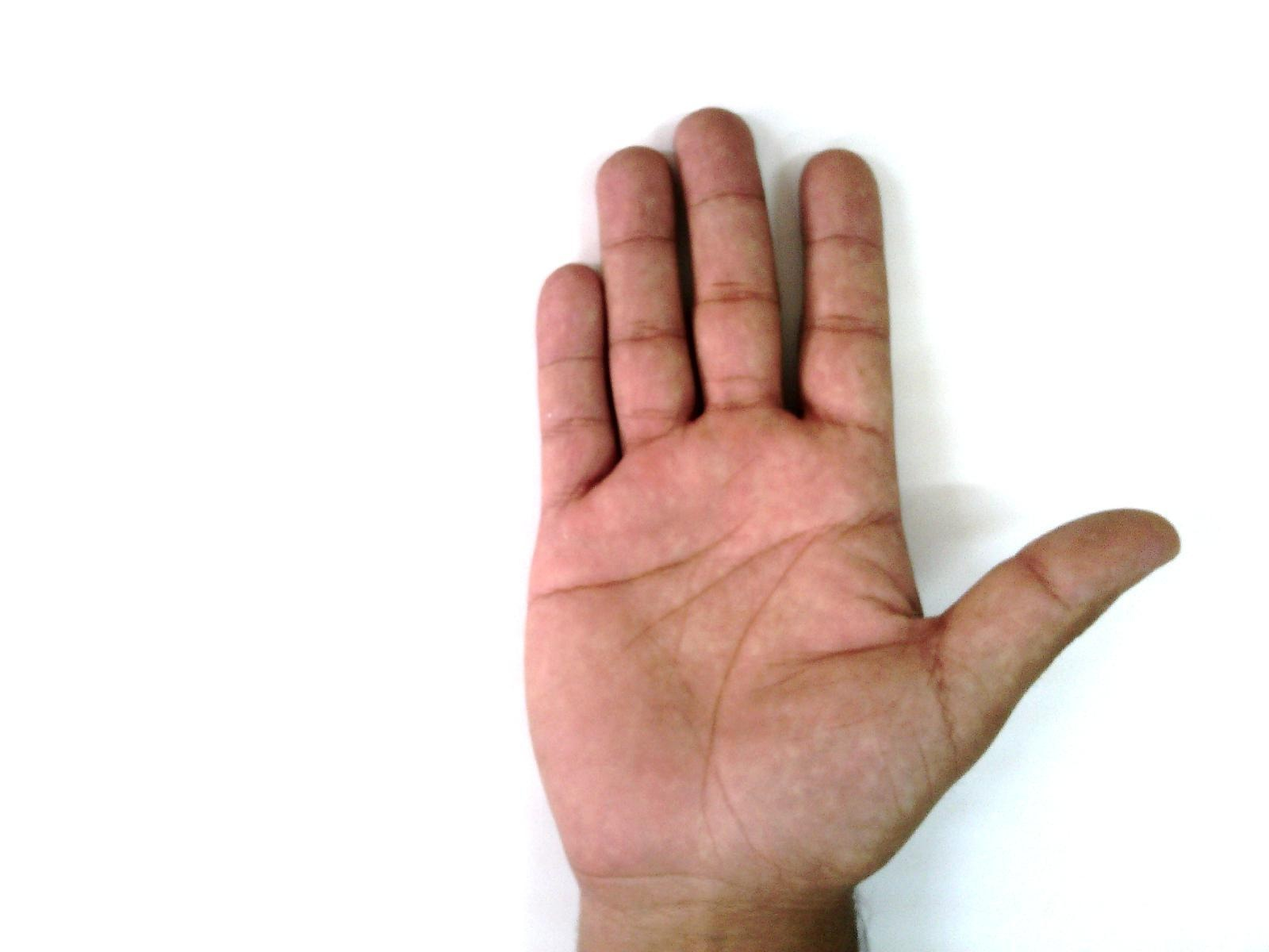open_palm: (519, 106, 1184, 899)
